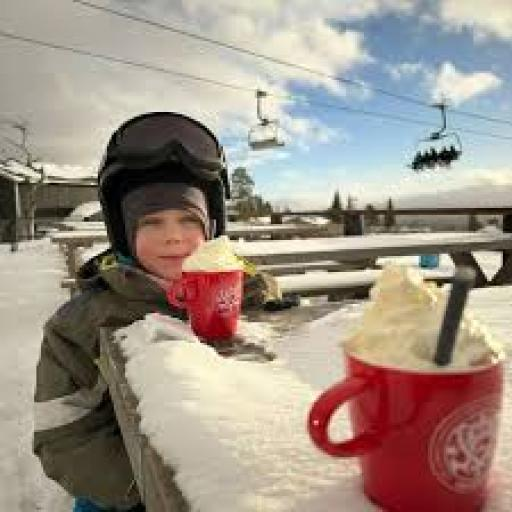red mug: (308, 352, 502, 511), (167, 270, 243, 340)
